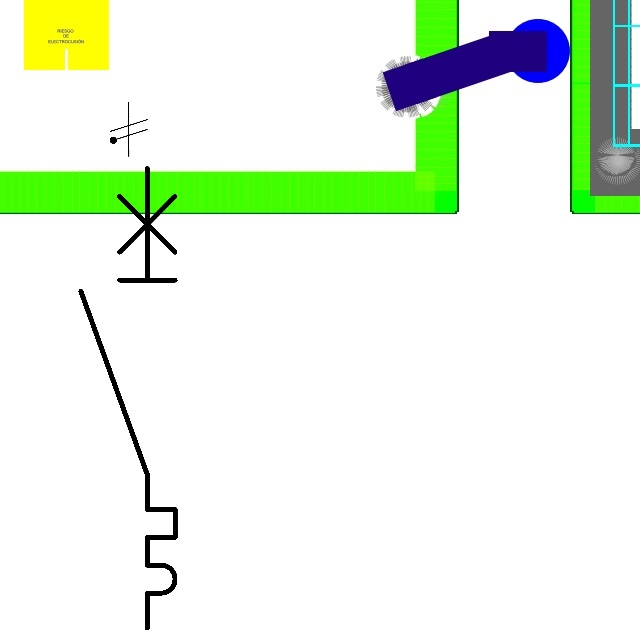interruptor_termomagnetico: (69, 156, 187, 639)
